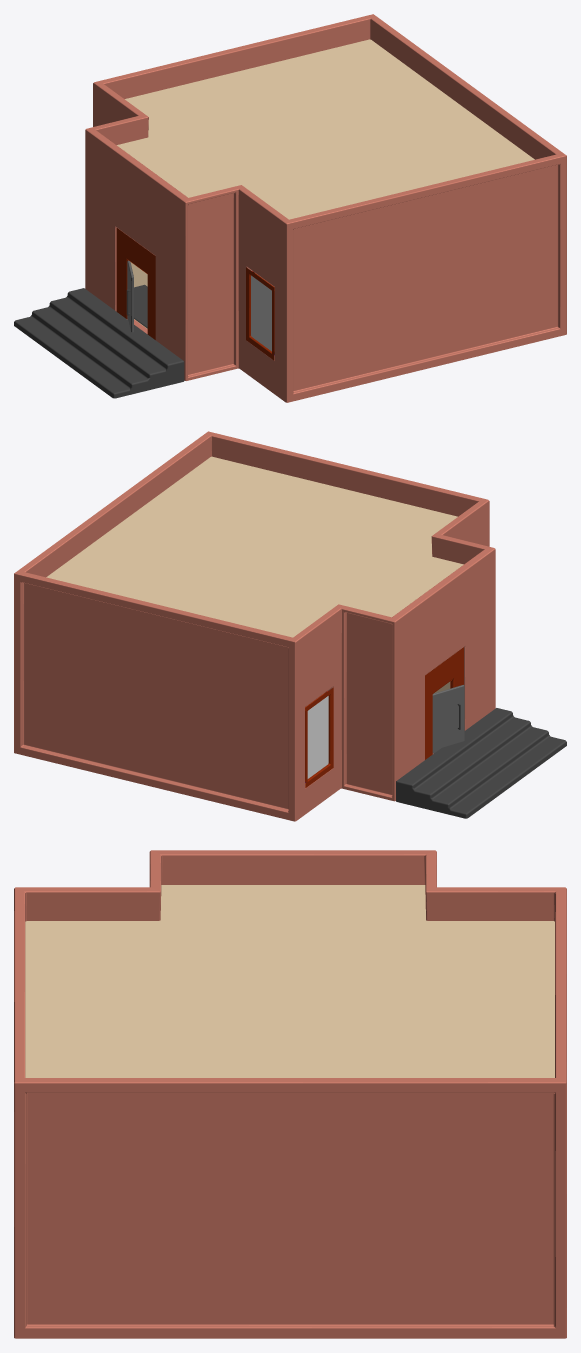
The model's file is Gym.fbx.
The picture shows the model from 3 angles, top to bottom: view 1: azimuth 30°, elevation 25°; view 2: azimuth 150°, elevation 25°; view 3: azimuth 270°, elevation 25°; orthographic projection. The views are drawn at different scales.
Visible parts, largest first — view 1: Cube.013, Cube.016, Cube.029, Cube.032, Cube.031, Cube.027; view 2: Cube.013, Cube.016, Cube.030, Cube.029, Cube.032, Cube.031; view 3: Cube.013.
Boxes of the visible parts, x1,y1,x2,y2 form: Cube.013: [85, 14, 566, 402]; Cube.016: [14, 288, 184, 398]; Cube.029: [116, 228, 155, 339]; Cube.032: [251, 275, 271, 351]; Cube.031: [246, 267, 274, 360]; Cube.027: [134, 284, 147, 328]; Cube.013: [14, 431, 495, 821]; Cube.016: [396, 708, 566, 818]; Cube.030: [432, 685, 464, 753]; Cube.029: [425, 647, 463, 759]; Cube.032: [307, 696, 328, 778]; Cube.031: [305, 687, 333, 788]; Cube.013: [14, 850, 566, 1338].
Bounding box in the file's own units: 1362 × 574 × 1124.
